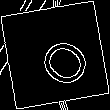O_NW: (21, 22, 89, 88)
